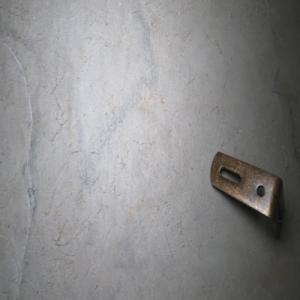MetalPart: (209, 148, 286, 241)
